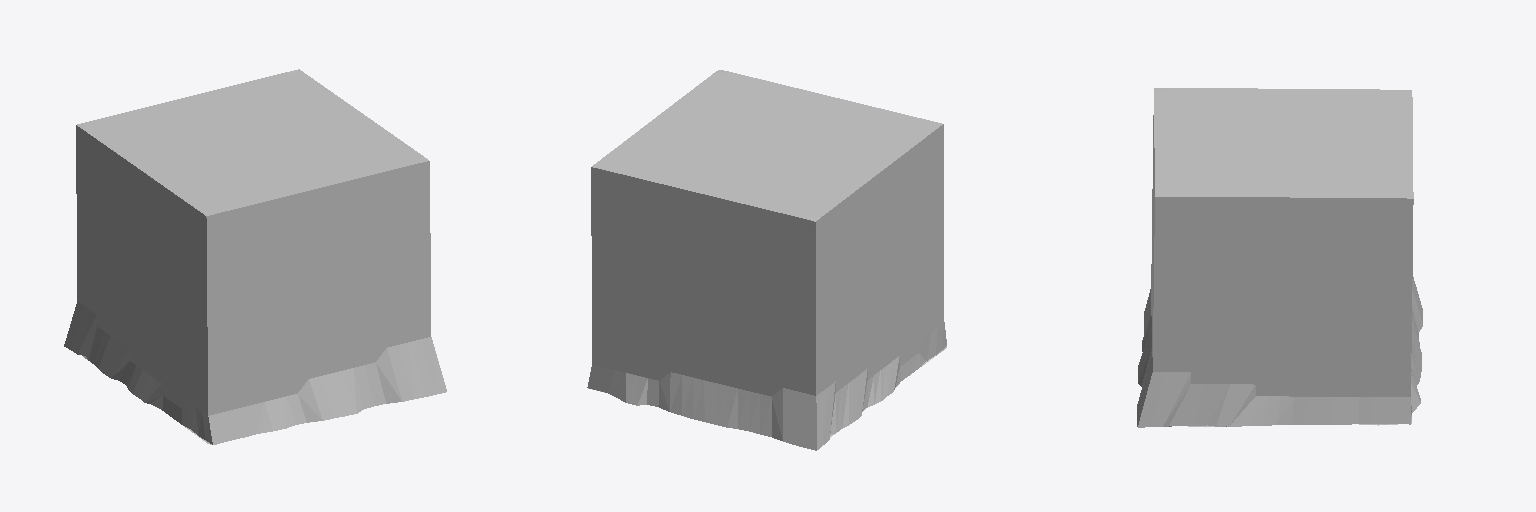
File: mod0103.obj
The picture shows the model from 3 angles: view 1: azimuth 30°, elevation 25°; view 2: azimuth 150°, elevation 25°; view 3: azimuth 270°, elevation 25°; orthographic projection.
Parts seen in each view (by area): view 1: Box001; view 2: Box001; view 3: Box001.
Boxes of the visible parts, x1=… form: Box001: x1=64, y1=69, x2=446, y2=444; Box001: x1=587, y1=70, x2=946, y2=450; Box001: x1=1137, y1=88, x2=1422, y2=427.
Bounding box in the file's own units: 0.5799 × 0.524 × 0.5979.